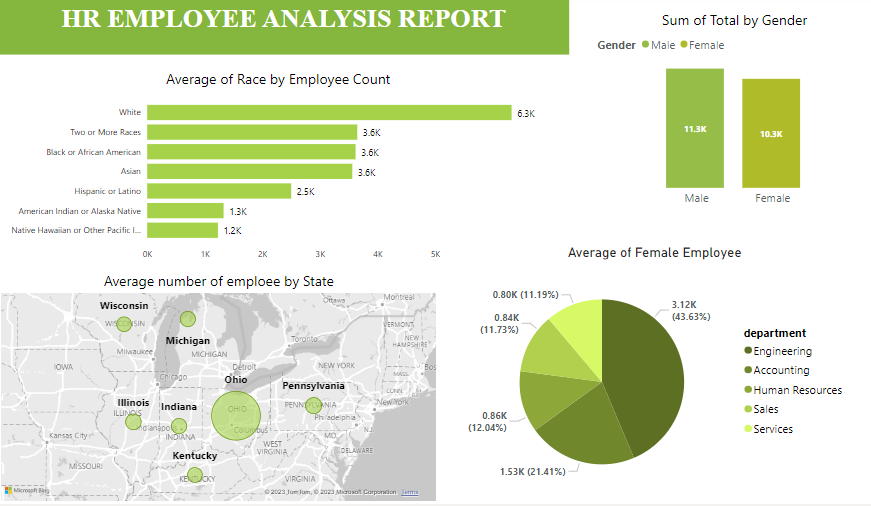

What the dashboard file says about the page in this screenshot:
{"tool":"powerbi","page":{"name":"Page 1","canvas":[1280,720],"ordinal":0},"visuals":[{"type":"textbox","box":[27.4,0,816.5,77.8],"z":0},{"type":"columnChart","title":"Sum of Total by Gender","fields":{"Series":["Query.Gender"],"Category":["Query.Gender"],"Y":["Query.Total"]},"box":[878.4,14.4,401.8,289.4],"z":1000},{"type":"barChart","title":"Average of Race by Employee Count","fields":{"Category":["Race.race"],"Y":["Race.RaceCount"]},"box":[27.4,97.9,800.6,282.2],"z":2000},{"type":"pieChart","title":"Average of Female Employee ","fields":{"Category":["Female employee.department"],"Series":["Female employee.FemaleEmployee"],"Y":["Female employee.FemaleEmployee"]},"box":[682.6,348.5,564.5,371.5],"z":5000},{"type":"map","title":"Average number of emploee by State","fields":{"Category":["Query.location_state"],"Size":["Query.EmployeeCount"]},"box":[27.4,387.4,630.7,332.6],"z":6000}]}

Visuals, with their boxes on the page's 1280x720 design canvas (x1, y1, x2, y2). These are canvas units, not pixel positions in the 871x506 screenshot, which may show the page scaled, cropped or inside an application window:
textbox: [left=27, top=0, right=844, bottom=78]
"Sum of Total by Gender" columnChart: [left=878, top=14, right=1280, bottom=304]
"Average of Race by Employee Count" barChart: [left=27, top=98, right=828, bottom=380]
"Average of Female Employee " pieChart: [left=683, top=348, right=1247, bottom=720]
"Average number of emploee by State" map: [left=27, top=387, right=658, bottom=720]
